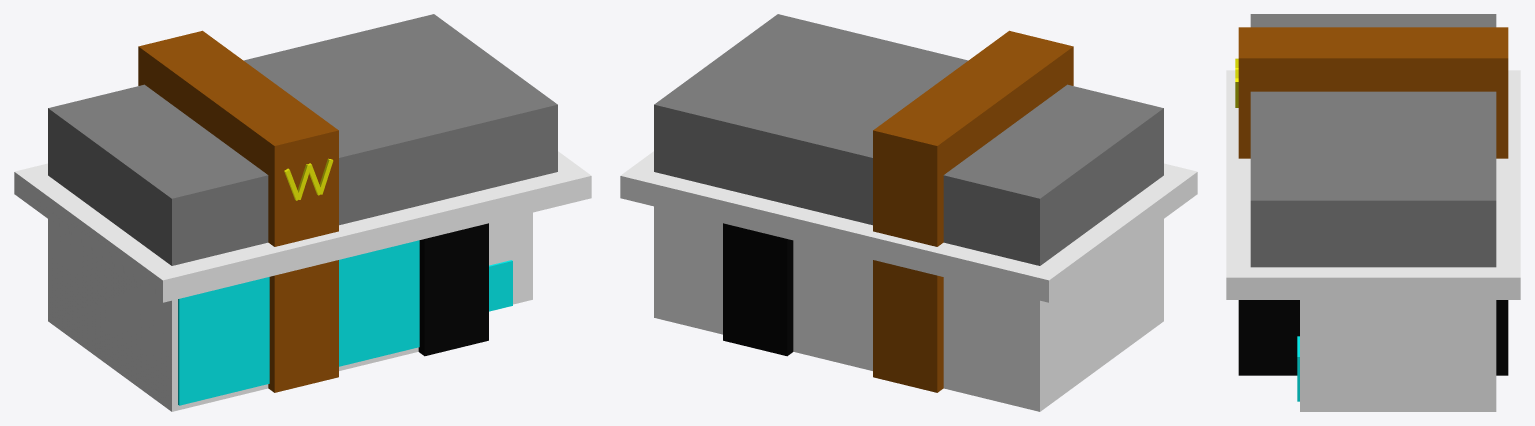
Rendered from wacdonald.glb.
The picture shows the model from 3 angles, left to right: view 1: azimuth 30°, elevation 25°; view 2: azimuth 150°, elevation 25°; view 3: azimuth 270°, elevation 25°; orthographic projection.
Visible parts, largest first — view 1: pCube4, pCube3, pCube2, pCube1, pCube7, pCube5, pCube6, pCube8; view 2: pCube4, pCube7, pCube3, pCube2, pCube5, pCube6; view 3: pCube4, pCube6, pCube3, pCube2, pCube5.
Boxes of the visible parts, left/top/right/bottom form: pCube4: left=48, top=14, right=557, bottom=265; pCube3: left=138, top=30, right=338, bottom=392; pCube2: left=14, top=151, right=591, bottom=302; pCube1: left=178, top=240, right=419, bottom=405; pCube7: left=48, top=219, right=418, bottom=411; pCube5: left=418, top=223, right=488, bottom=356; pCube6: left=489, top=212, right=532, bottom=304; pCube8: left=490, top=260, right=512, bottom=310; pCube4: left=654, top=14, right=1163, bottom=265; pCube7: left=793, top=219, right=1163, bottom=411; pCube3: left=873, top=30, right=1073, bottom=392; pCube2: left=620, top=151, right=1197, bottom=302; pCube5: left=723, top=223, right=793, bottom=356; pCube6: left=654, top=206, right=722, bottom=334; pCube4: left=1250, top=14, right=1496, bottom=267; pCube6: left=1300, top=300, right=1496, bottom=411; pCube3: left=1238, top=27, right=1508, bottom=158; pCube2: left=1226, top=70, right=1520, bottom=299; pCube5: left=1238, top=300, right=1508, bottom=375.
Size of the model in its own units: 8 by 4.4 by 4.8.
